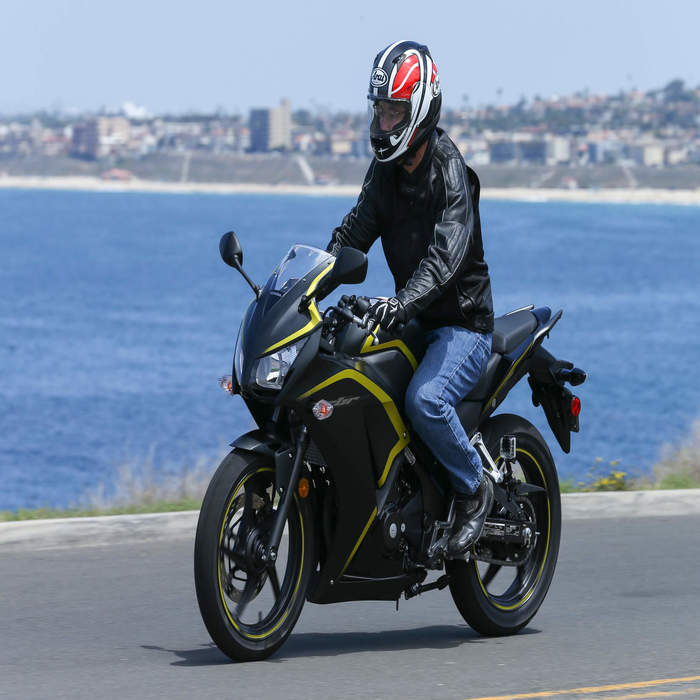h: (361, 33, 444, 169)
